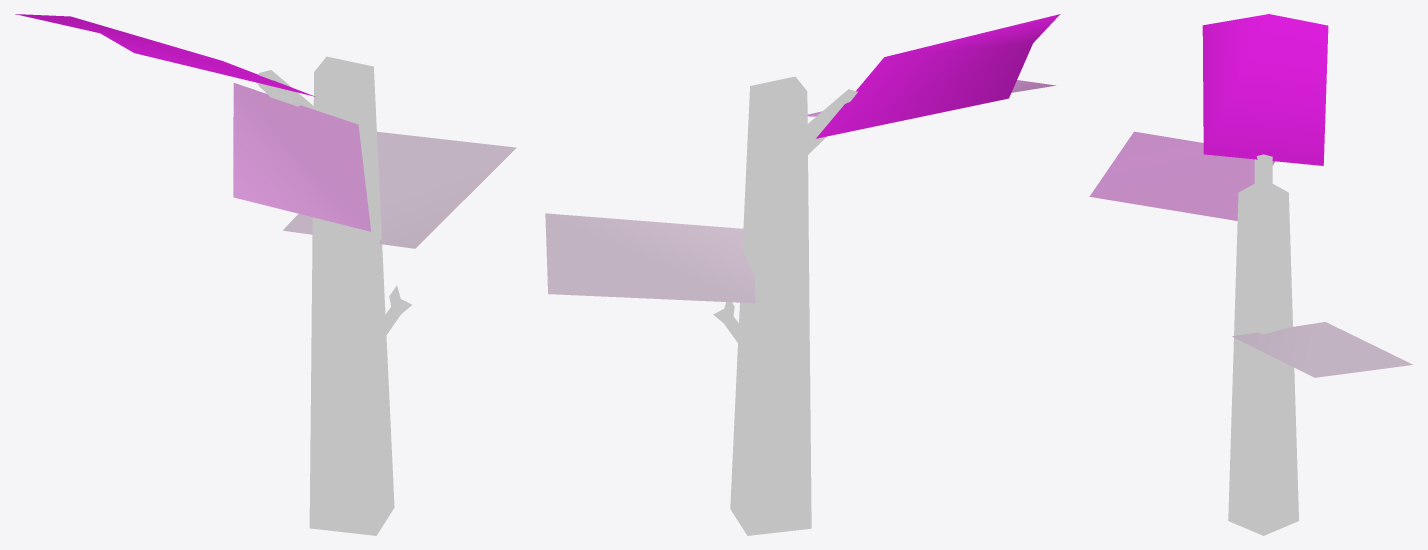
Rendered from G_RoseFlowers_003_S1.fbx.
3 renders of one model, left to right at view 1: azimuth 30°, elevation 25°; view 2: azimuth 150°, elevation 25°; view 3: azimuth 270°, elevation 25°, orthographic. The views are drawn at different scales.
Parts seen in each view (by area): view 1: G_RoseFlowers_003_S1_P01_LOD0; view 2: G_RoseFlowers_003_S1_P01_LOD0; view 3: G_RoseFlowers_003_S1_P01_LOD0.
Part boxes in pixels (left/top/right/bottom): G_RoseFlowers_003_S1_P01_LOD0: left=15, top=14, right=516, bottom=535; G_RoseFlowers_003_S1_P01_LOD0: left=545, top=14, right=1060, bottom=535; G_RoseFlowers_003_S1_P01_LOD0: left=1089, top=14, right=1413, bottom=535.
Bounding box in the file's own units: 47.7 × 52.36 × 37.6.
